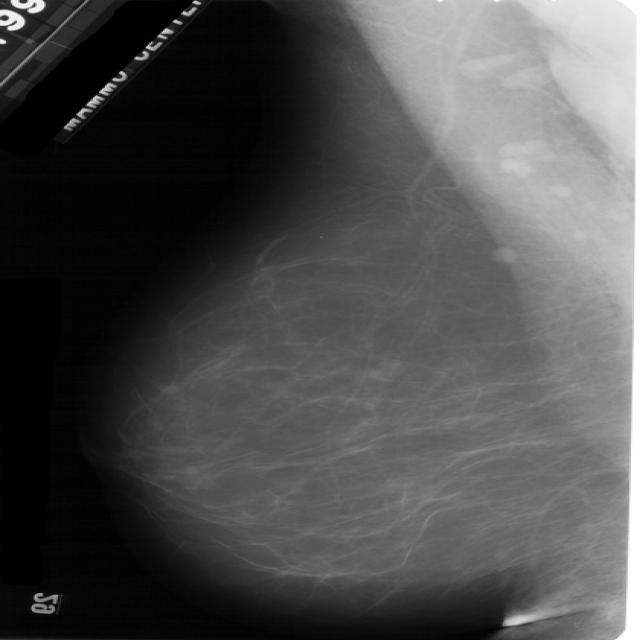tumour: (485, 245, 518, 263)
